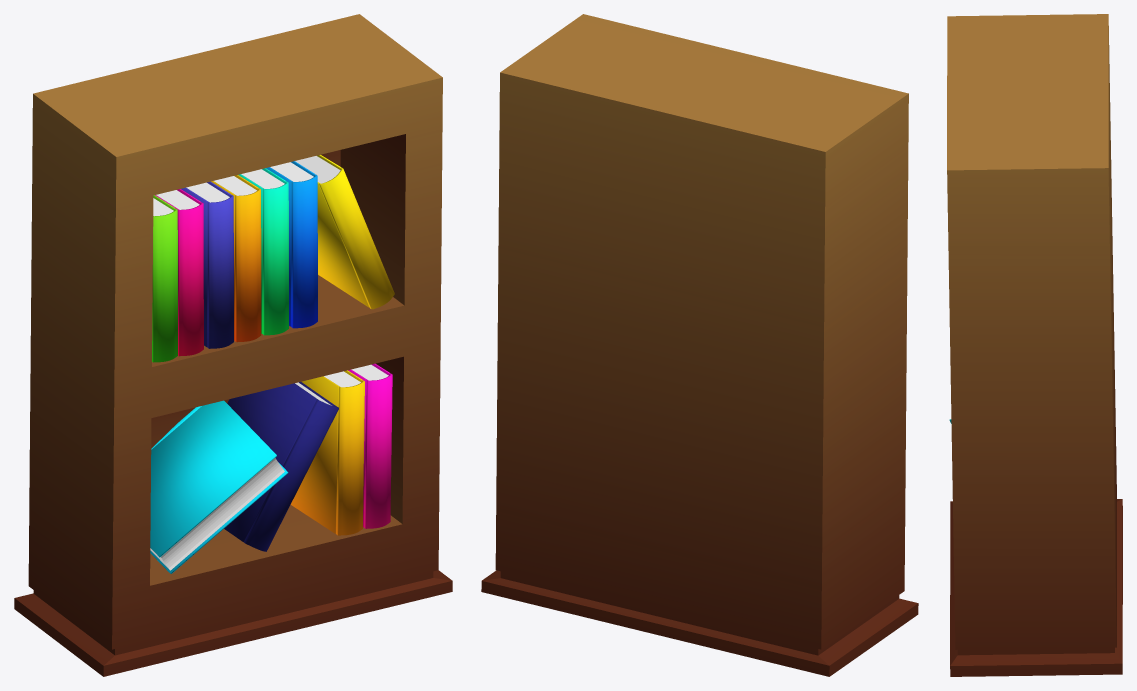
Rendered from SM_Estanteria.fbx.
The picture shows the model from 3 angles, left to right: view 1: azimuth 30°, elevation 25°; view 2: azimuth 150°, elevation 25°; view 3: azimuth 270°, elevation 25°; orthographic projection. The views are drawn at different scales.
Visible parts, largest first — view 1: Estantería; view 2: Estantería; view 3: Estantería.
Boxes of the visible parts, x1,y1,x2,y2 form: Estantería: [14, 14, 452, 676]; Estantería: [481, 14, 918, 676]; Estantería: [947, 14, 1122, 676].
Bounding box in the file's own units: 154 × 220 × 69.69.
